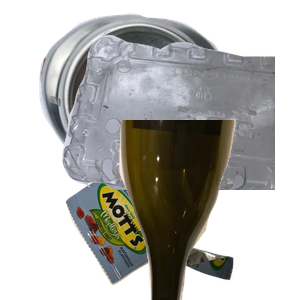glass: (117, 120, 300, 300)
metal: (37, 11, 261, 180)
plastic: (60, 32, 300, 212)
trash: (63, 137, 289, 300)
